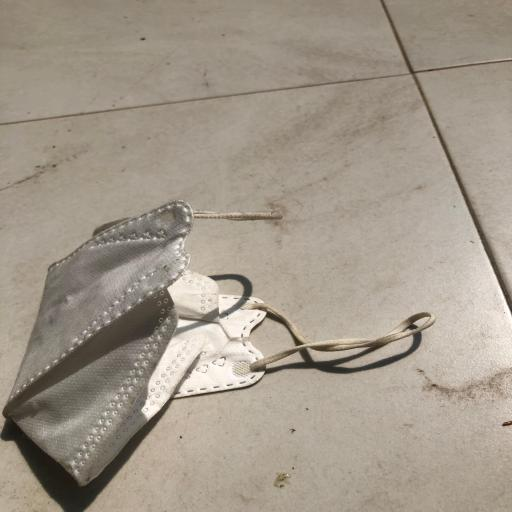waste: (0, 194, 447, 505)
